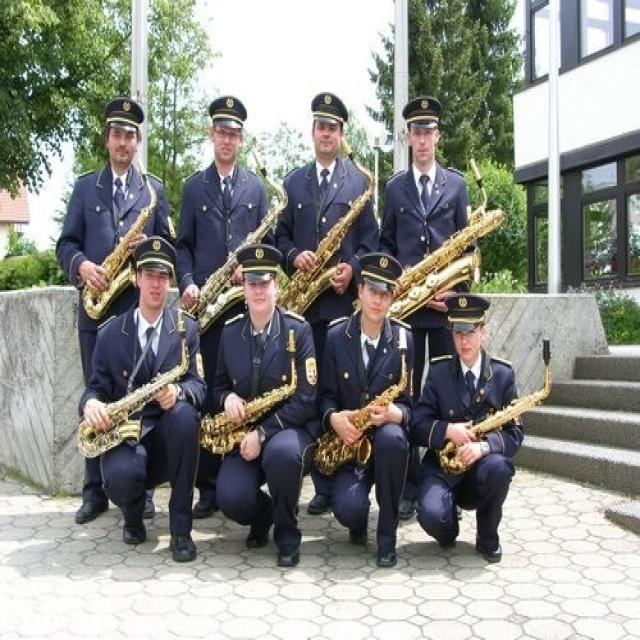saxophone: (350, 159, 507, 321), (182, 148, 291, 321), (284, 142, 378, 316), (75, 324, 192, 461), (438, 339, 557, 471), (73, 162, 164, 328), (315, 325, 412, 473), (201, 329, 300, 460)
